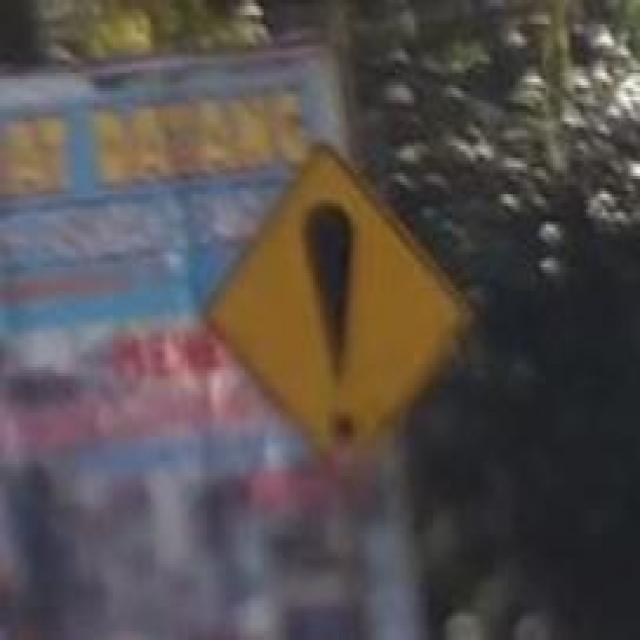traffic sign: (207, 149, 475, 482)
